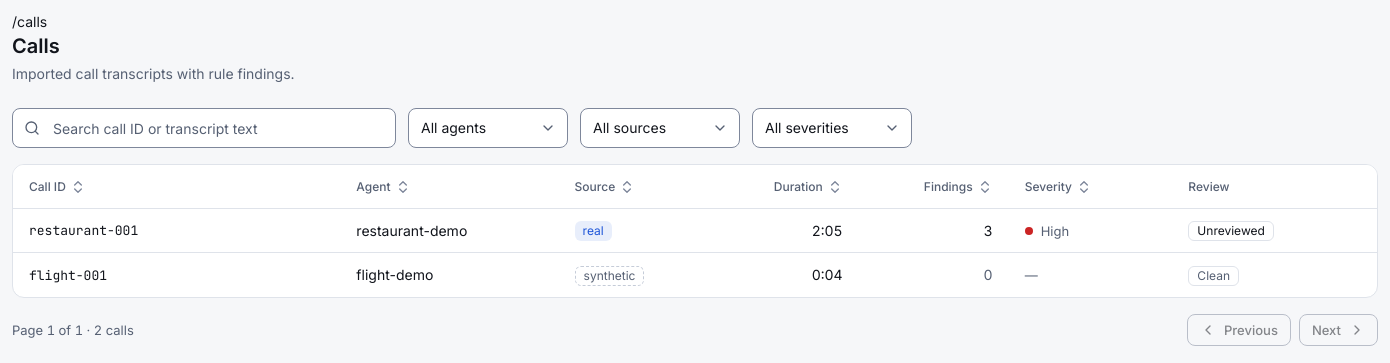
Test: calls page › debounces the search box and writes it to the URL
Expected: the table is shown, [13,165,1377,297]
Type "delhi" into the search field named "Search calls" at (204, 128), box [12,108,396,148]
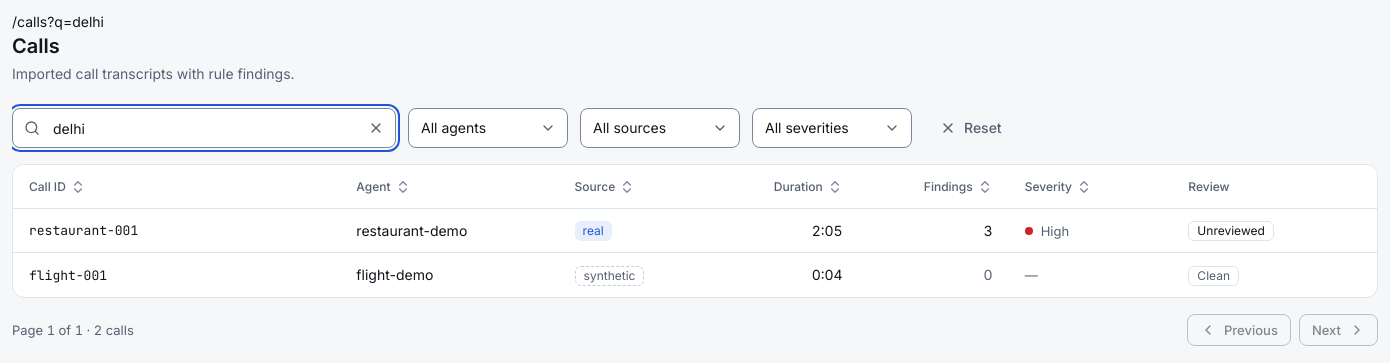
Now the text with test id "location" reads "/calls?q=delhi", box [12,13,104,30]
